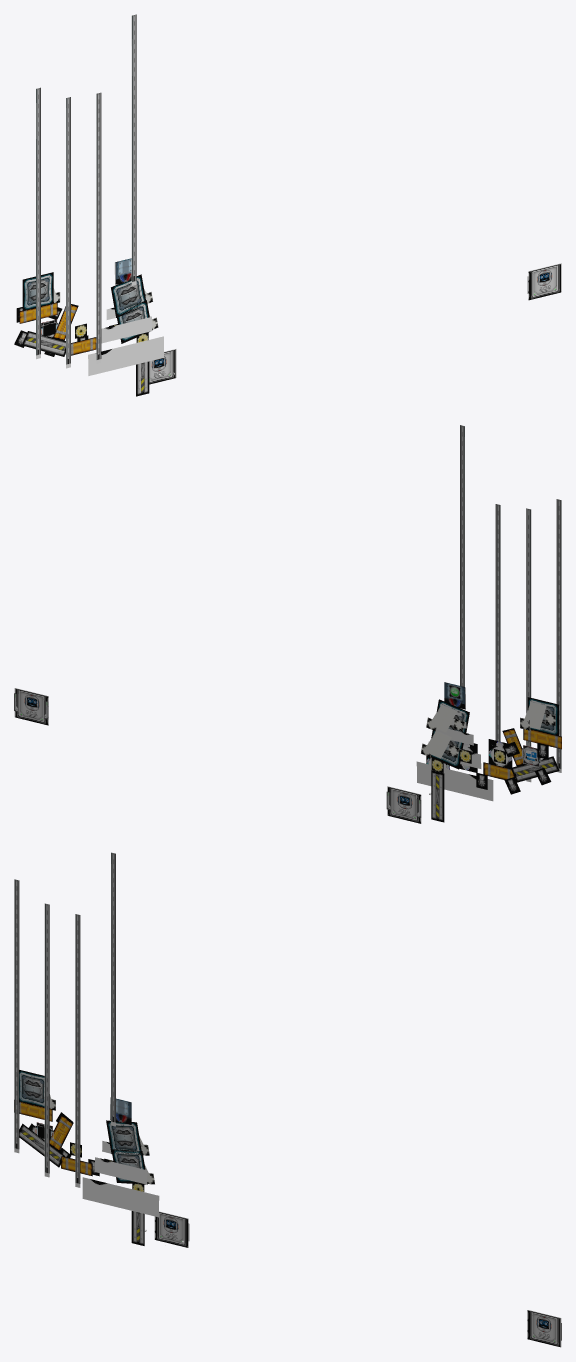
The model's file is pack_4_level_10.glb.
3 renders of one model, top to bottom at view 1: azimuth 30°, elevation 25°; view 2: azimuth 150°, elevation 25°; view 3: azimuth 330°, elevation 25°, orthographic.
Parts seen in each view (by area): view 1: stropa (×4), box_metal (×3), mBox_4 (×2), wave_3, wave_4, balk_metal_147; view 2: stropa (×4), mBox_4 (×2), wave_3, balk_metal_155v, balk_metal_147, box_metal, balk_143; view 3: stropa (×4), box_metal (×3), mBox_4 (×2), wave_3, wave_4, balk_metal_147.
Part boxes in pixels (bbox=[...]): stropa (×4): bbox=[36, 14, 136, 368]; box_metal (×3): bbox=[22, 272, 152, 343]; mBox_4 (×2): bbox=[149, 263, 561, 384]; wave_3: bbox=[88, 336, 163, 375]; wave_4: bbox=[101, 316, 151, 343]; balk_metal_147: bbox=[22, 331, 65, 356]; stropa (×4): bbox=[460, 425, 561, 782]; mBox_4 (×2): bbox=[14, 688, 421, 823]; wave_3: bbox=[416, 761, 493, 801]; balk_metal_155v: bbox=[431, 770, 444, 822]; balk_metal_147: bbox=[510, 756, 559, 782]; box_metal: bbox=[527, 697, 558, 735]; balk_143: bbox=[523, 729, 561, 749]; stropa (×4): bbox=[14, 852, 115, 1187]; box_metal (×3): bbox=[19, 1070, 147, 1184]; mBox_4 (×2): bbox=[154, 1211, 561, 1347]; wave_3: bbox=[82, 1177, 159, 1217]; wave_4: bbox=[94, 1157, 147, 1184]; balk_metal_147: bbox=[19, 1123, 65, 1167].
Bounding box in the file's own units: 1949 × 1338 × 102.
8 materials, 6 textured.
